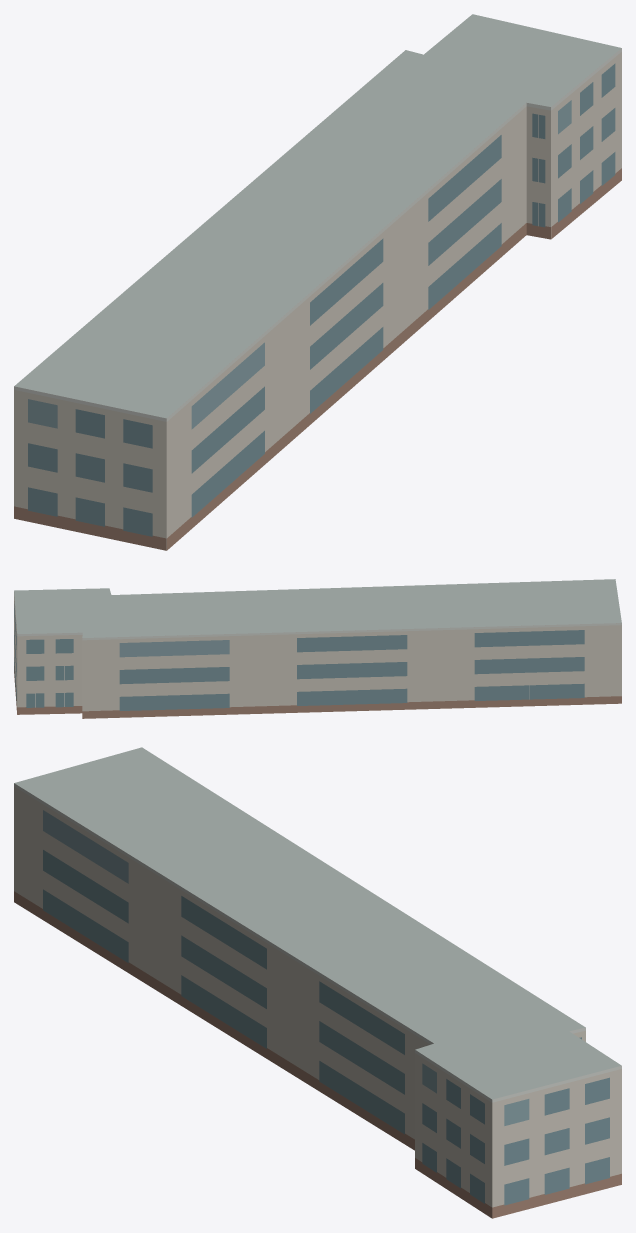
The model's file is survey-upis-33023860.glb.
3 views of the same model, one above another, from view 1: azimuth 30°, elevation 25°; view 2: azimuth 150°, elevation 25°; view 3: azimuth 270°, elevation 25° (orthographic). The views are drawn at different scales.
Visible parts, largest first — view 1: survey-upis-33023860.tmp; view 2: survey-upis-33023860.tmp; view 3: survey-upis-33023860.tmp.
Boxes of the visible parts, x1=… form: survey-upis-33023860.tmp: x1=14, y1=14, x2=621, y2=550; survey-upis-33023860.tmp: x1=14, y1=579, x2=621, y2=718; survey-upis-33023860.tmp: x1=14, y1=747, x2=621, y2=1218.
Size of the model in its own units: 58.06 by 9.15 by 42.34.
